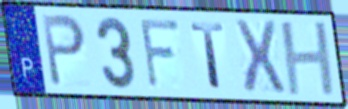3: (95, 14, 137, 91)
F: (137, 16, 182, 91)
H: (277, 19, 339, 99)
P: (39, 12, 88, 89)
T: (188, 21, 227, 91)
X: (232, 17, 288, 96)
